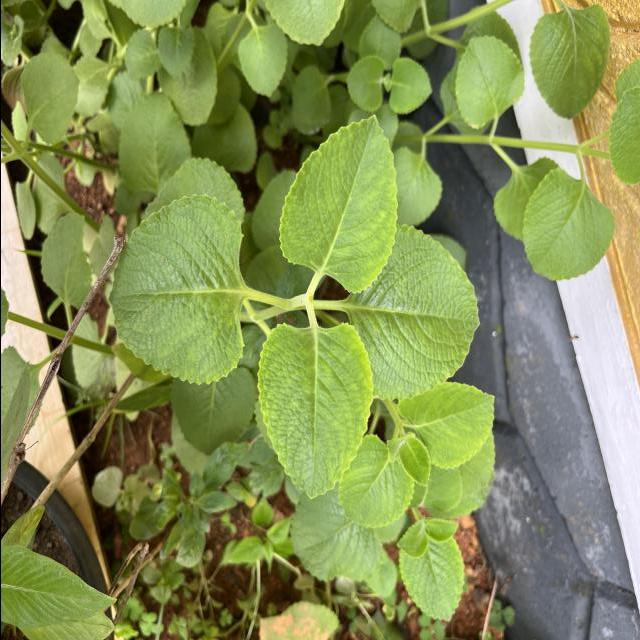Plectranthus barbatus: (106, 192, 244, 388), (276, 114, 398, 296), (255, 321, 373, 500), (372, 222, 481, 402), (520, 165, 615, 282), (526, 2, 611, 122), (288, 487, 382, 584), (395, 380, 495, 470), (116, 92, 191, 198), (336, 432, 414, 528), (453, 34, 525, 130), (156, 26, 218, 127), (397, 534, 465, 623), (19, 52, 80, 146), (236, 21, 287, 99), (388, 56, 432, 116), (345, 54, 384, 112), (397, 437, 430, 488)
